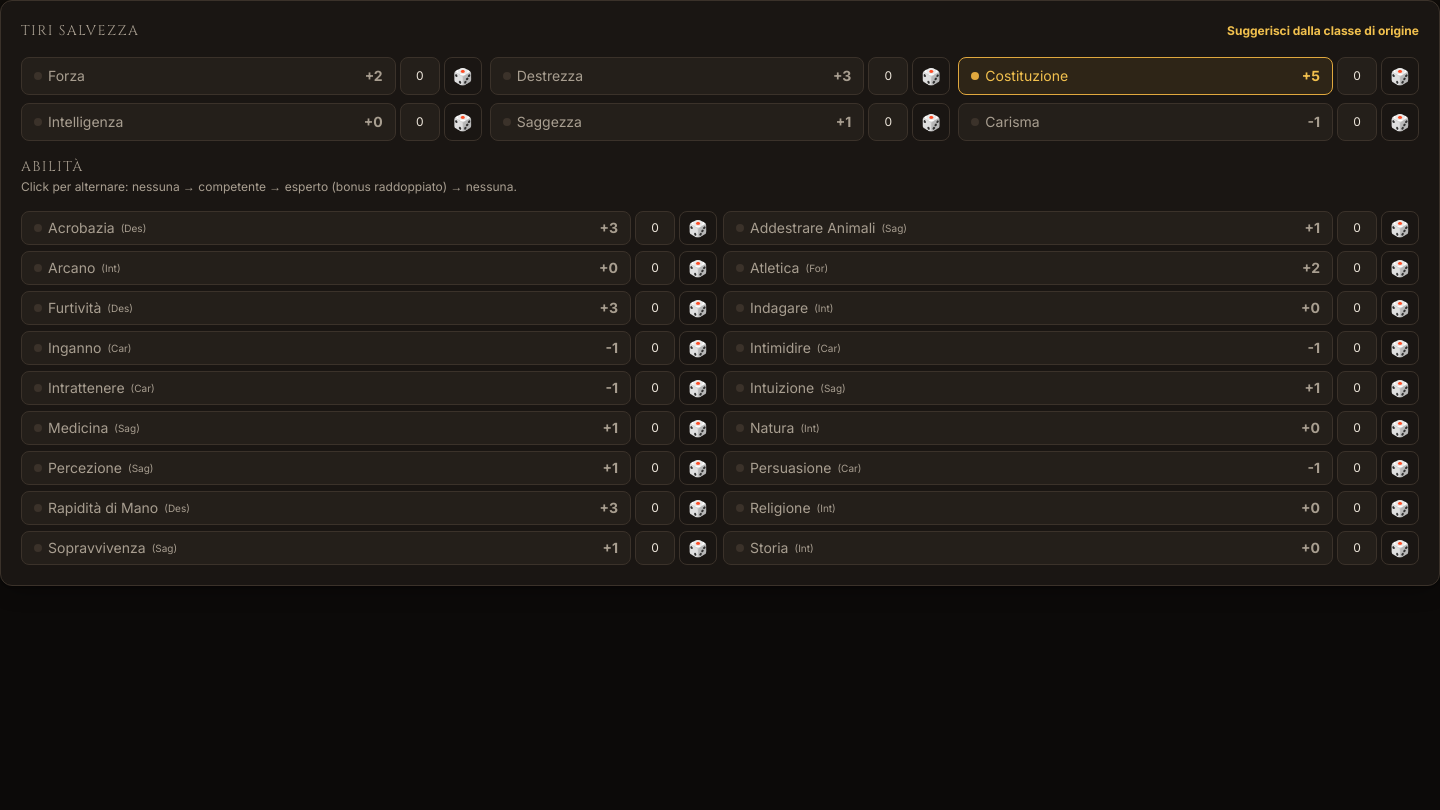
Test: SavingThrowsAndSkills › il bonus extra su un tiro salvezza si somma al modificatore RAW ed è modificabile
Expected: the button "Costituzione +5" is shown, [958, 57, 1333, 95]
Replace the text in the field named "Bonus extra al tiro salvezza su Costituzione" with "3" at (1357, 76), box [1337, 57, 1377, 95]
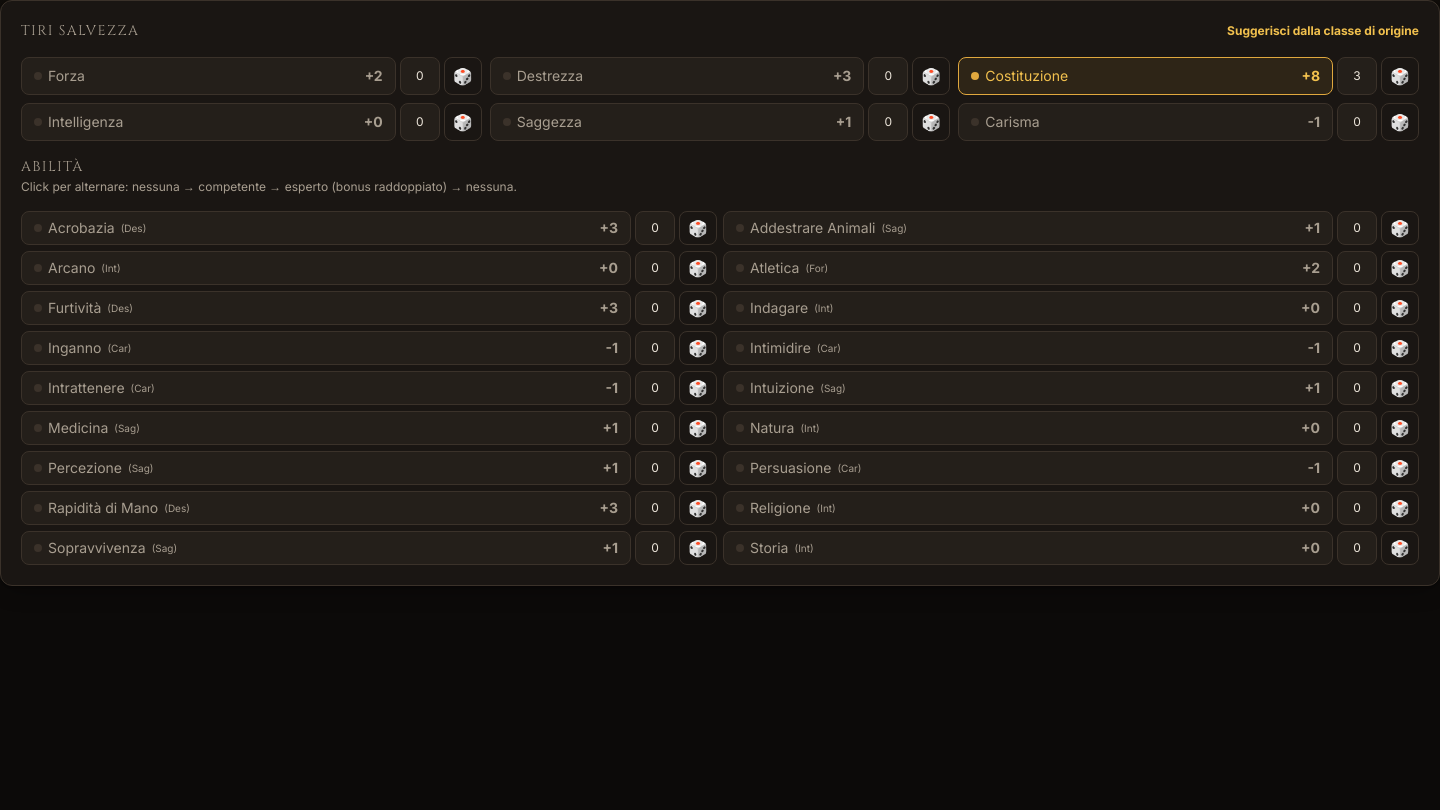
Expected: the text "+8" is shown, [1301, 66, 1320, 86]
